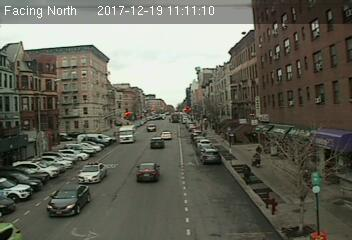car: (46, 185, 89, 217), (136, 162, 159, 181), (199, 150, 221, 164), (149, 137, 163, 148), (161, 130, 172, 140)
pedestrian: (240, 162, 252, 189)
police: (77, 161, 109, 185)
truck: (118, 124, 137, 145)
